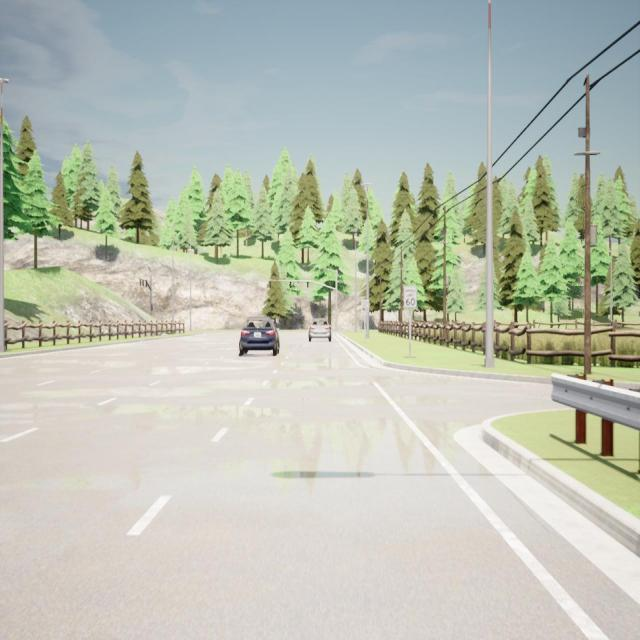Traffic_Signs: (404, 287, 416, 308), (361, 300, 369, 313)
Vehicle: (239, 316, 279, 355), (308, 317, 332, 342)
traffic_light: (269, 281, 271, 288), (290, 281, 292, 288), (306, 281, 308, 288), (150, 304, 152, 311), (142, 280, 144, 286), (140, 279, 141, 286), (146, 281, 147, 287)
